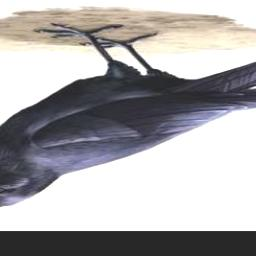Crow: (0, 20, 256, 209)
